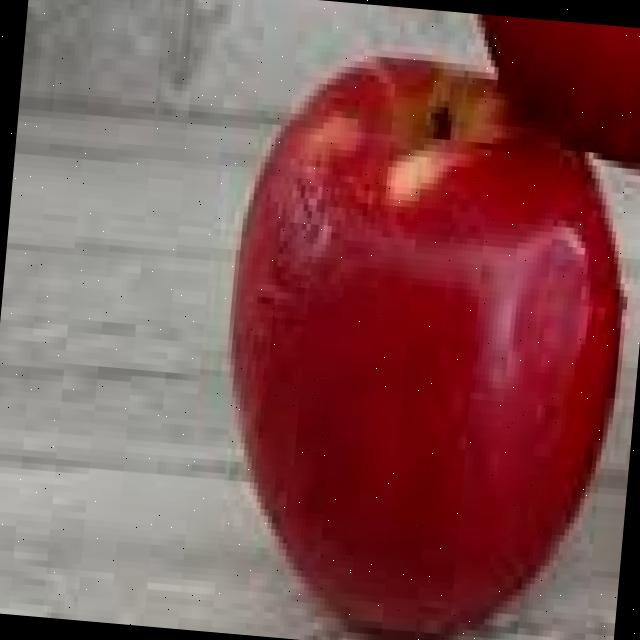overripe: (197, 33, 640, 640)
